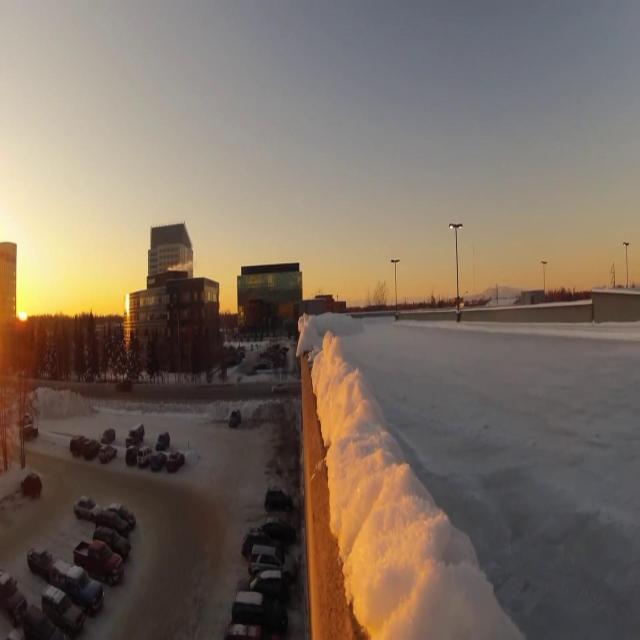Fire: (170, 260, 194, 272)
